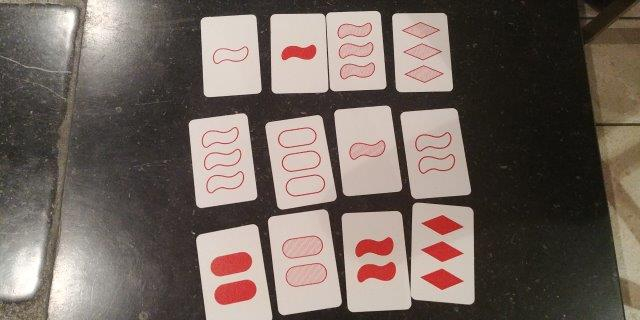1EW: (204, 20, 255, 89)
1FW: (273, 17, 323, 92)
1HW: (342, 115, 391, 189)
2EW: (411, 111, 459, 195)
2FP: (205, 236, 259, 320)
2FW: (349, 218, 402, 305)
2HP: (277, 219, 329, 303)
3EP: (275, 122, 326, 201)
3EW: (196, 121, 248, 198)
3FD: (414, 209, 468, 299)
3HD: (397, 15, 446, 89)
3HW: (331, 15, 380, 88)
